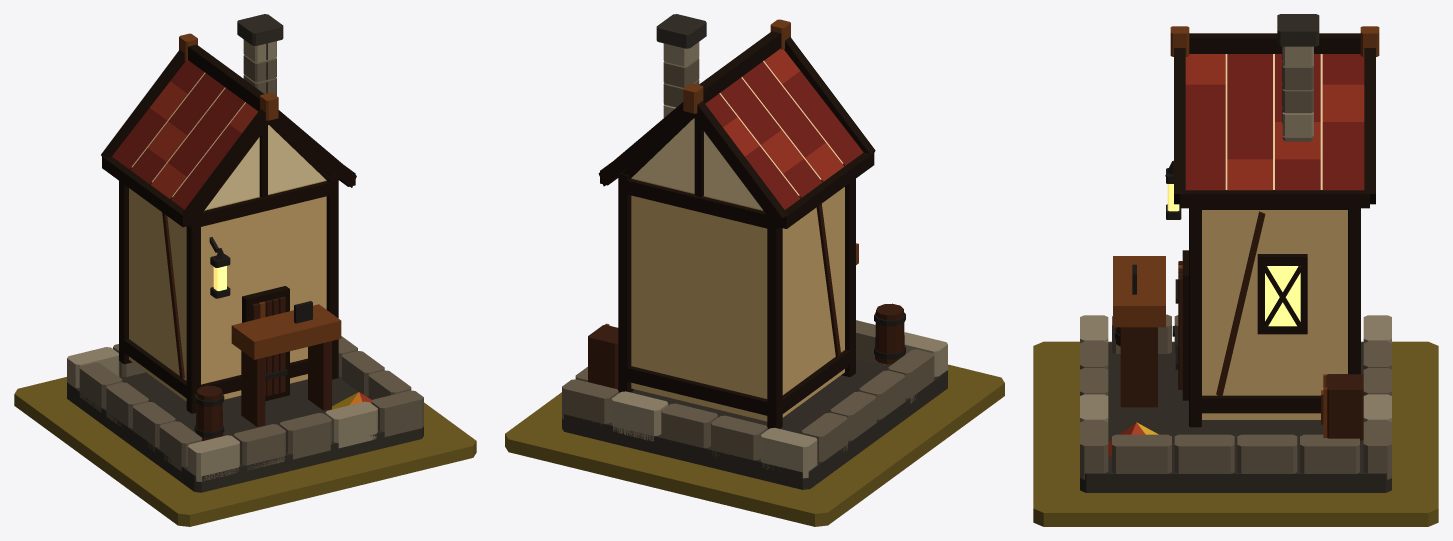
The model's file is butchery_t4.glb.
The picture shows the model from 3 angles, left to right: view 1: azimuth 30°, elevation 25°; view 2: azimuth 150°, elevation 25°; view 3: azimuth 270°, elevation 25°; orthographic projection. The views are drawn at different scales.
Visible parts, largest first — view 1: MMR | butchery | T04 Architecture.001, MMR | butchery | Tier 04 Ground.001; view 2: MMR | butchery | T04 Architecture.001, MMR | butchery | Tier 04 Ground.001; view 3: MMR | butchery | T04 Architecture.001, MMR | butchery | Tier 04 Ground.001.
Part boxes in pixels (x1,y1,x2,y2): MMR | butchery | T04 Architecture.001: (67,14,423,492); MMR | butchery | Tier 04 Ground.001: (14,377,476,526); MMR | butchery | T04 Architecture.001: (562,14,947,489); MMR | butchery | Tier 04 Ground.001: (505,364,1004,526); MMR | butchery | T04 Architecture.001: (1080,14,1391,492); MMR | butchery | Tier 04 Ground.001: (1033,341,1438,526).
Size of the model in its own units: 1.3 by 1.56 by 1.3.
2 materials, 1 textured.
